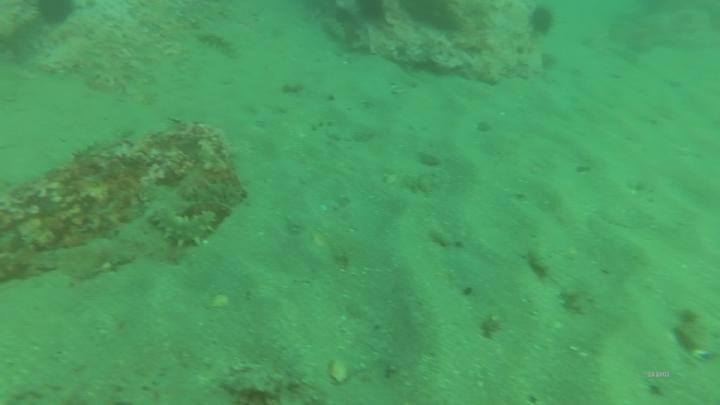echinus: (528, 4, 558, 32)
holothurian: (144, 205, 220, 252), (195, 30, 238, 57)
